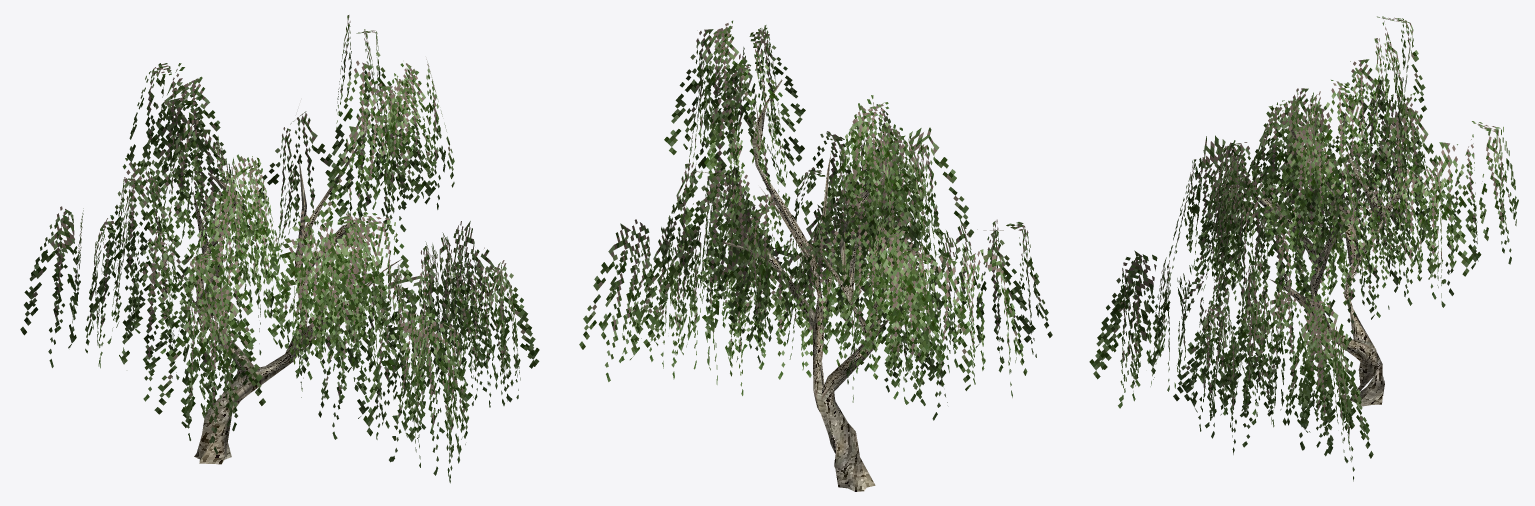
The model's file is tree_willow_lo.glb.
3 renders of one model, left to right at view 1: azimuth 30°, elevation 25°; view 2: azimuth 150°, elevation 25°; view 3: azimuth 270°, elevation 25°, orthographic. The views are drawn at different scales.
Parts seen in each view (by area): view 1: m; view 2: m; view 3: m.
Boxes of the visible parts, <box> form: m: <box>20,15,539,483</box>; m: <box>579,20,1052,491</box>; m: <box>1089,16,1518,481</box>.
Bounding box in the file's own units: 1.13 × 0.9869 × 0.9869.
2 materials, 2 textured.
